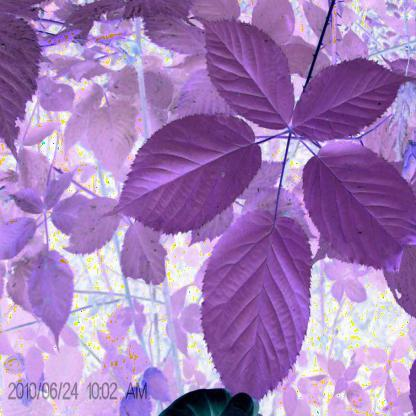Raspberry leaf: (200, 210, 312, 404), (114, 108, 266, 238), (296, 136, 416, 270), (189, 14, 295, 134), (288, 47, 416, 141)
